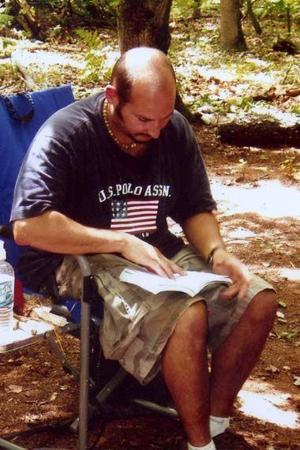person: (11, 47, 279, 448)
